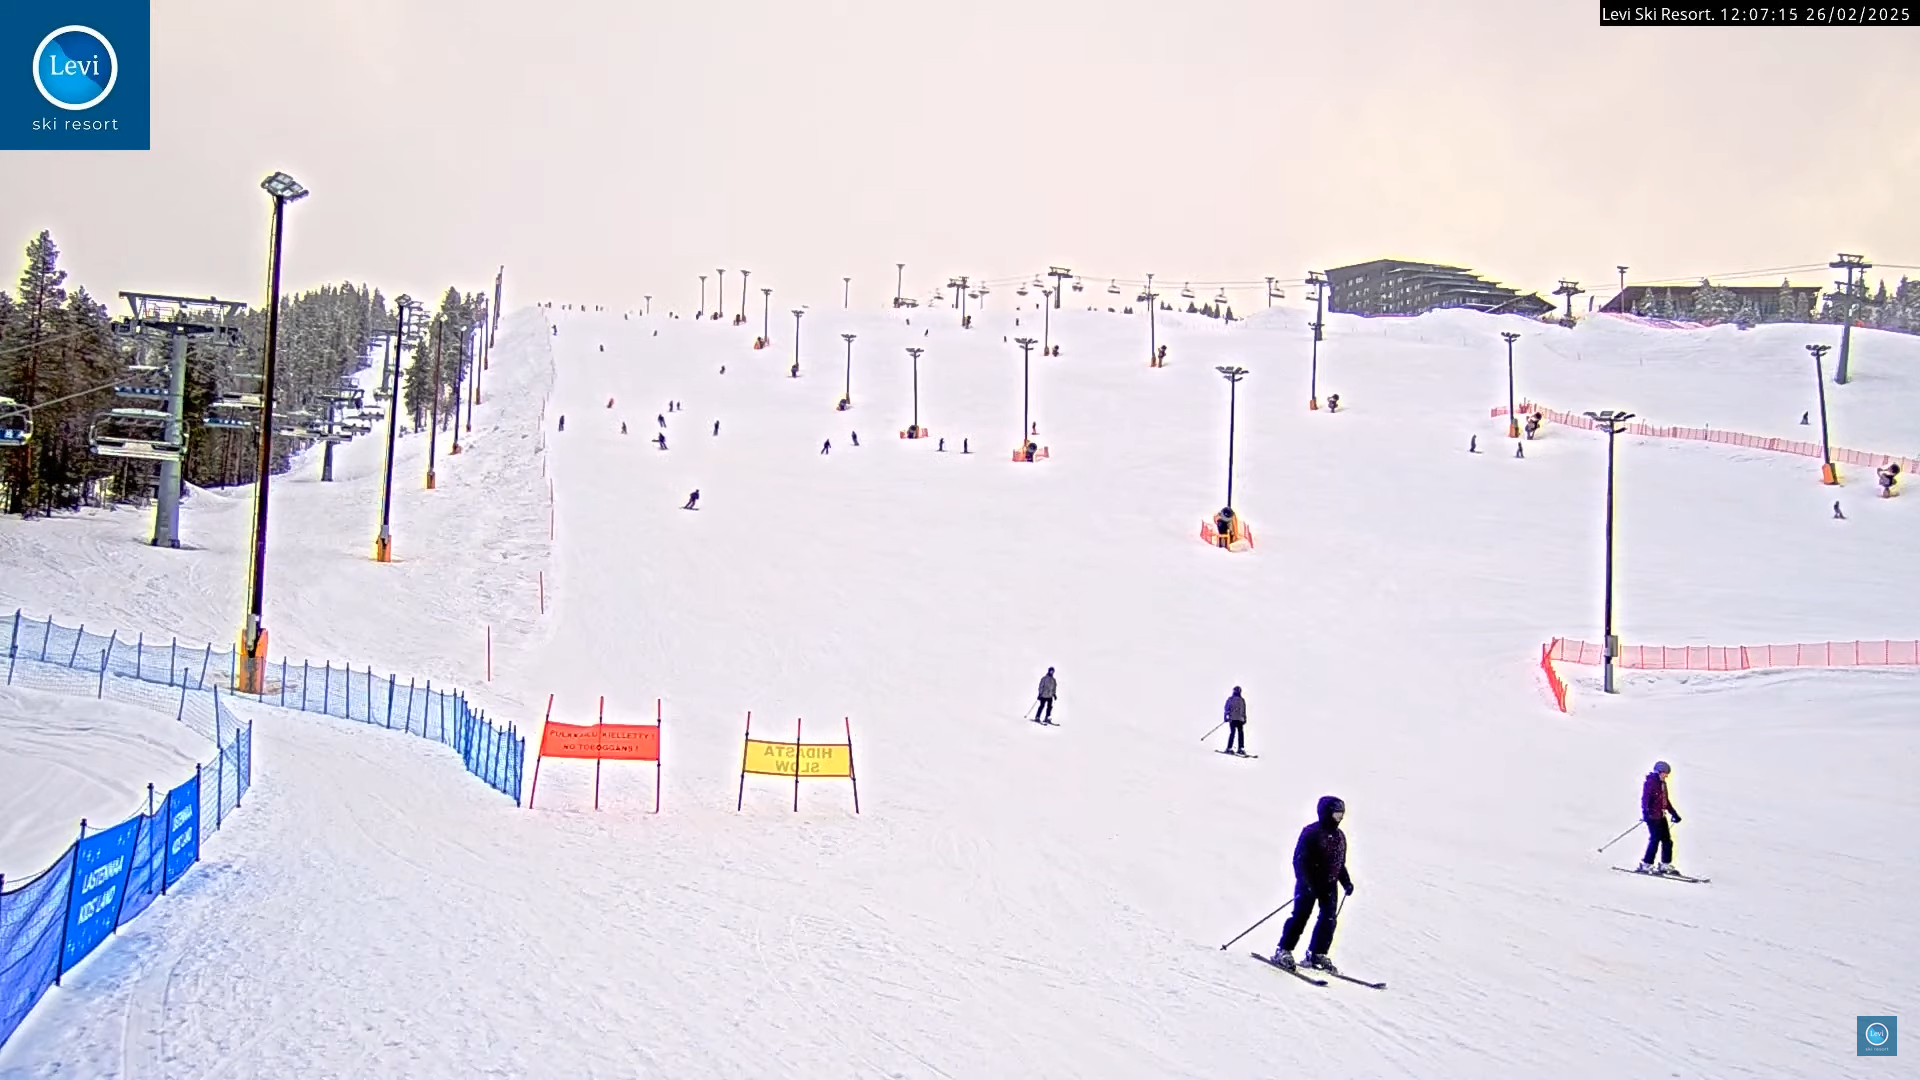skier: (1215, 793, 1390, 1006), (1594, 760, 1710, 882), (1203, 682, 1261, 761), (1021, 665, 1064, 728)
